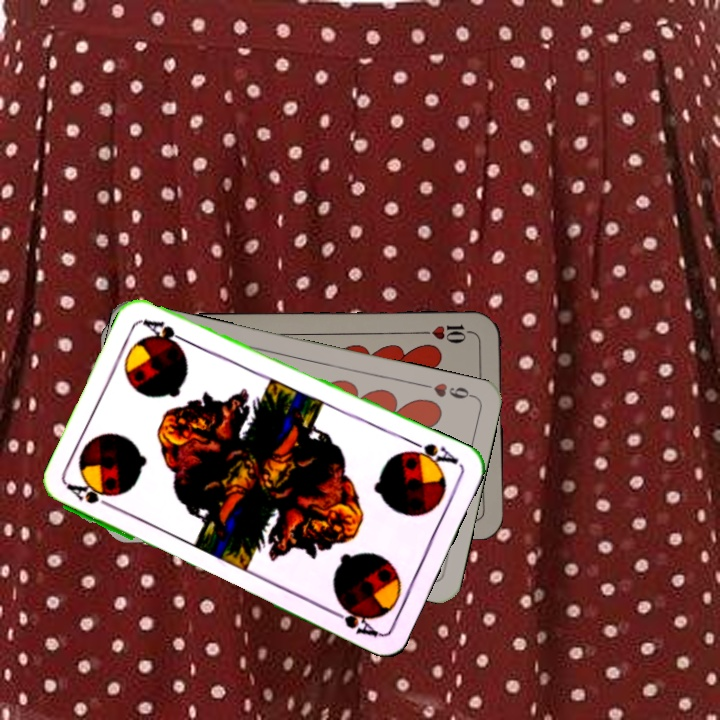H10: (416, 320, 475, 345)
H9: (418, 378, 476, 402)
SA: (401, 435, 461, 470), (64, 480, 120, 513)
